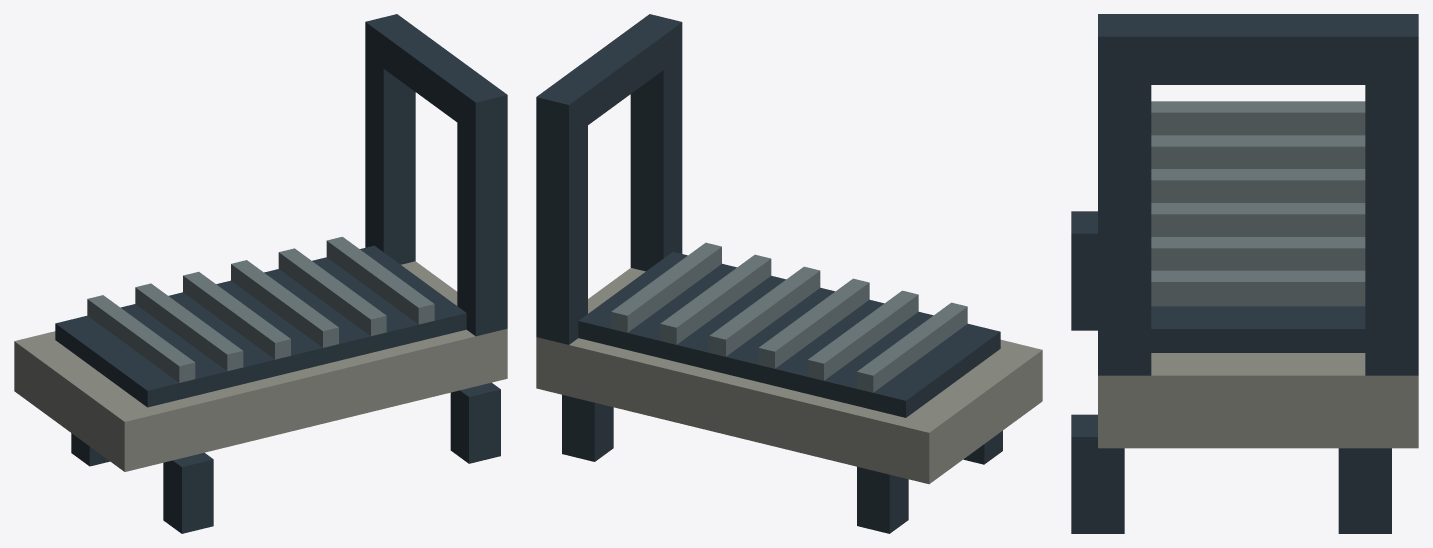
The model's file is manufacturing-02.glb.
3 views of the same model, side by side, from view 1: azimuth 30°, elevation 25°; view 2: azimuth 150°, elevation 25°; view 3: azimuth 270°, elevation 25° (orthographic). The views are drawn at different scales.
Visible parts, largest first — view 1: Factory conveyor; view 2: Factory conveyor; view 3: Factory conveyor.
Part boxes in pixels (x1,y1,x2,y2): Factory conveyor: [14, 14, 507, 533]; Factory conveyor: [536, 14, 1042, 533]; Factory conveyor: [1071, 14, 1418, 533].
Bounding box in the file's own units: 1.92 × 1.68 × 1.04.
